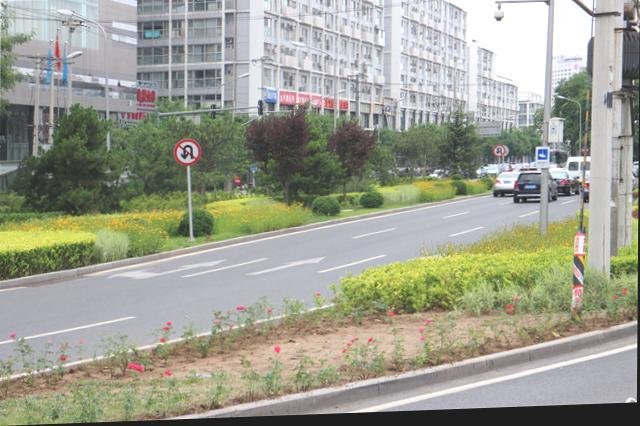not_u_turn_left: (174, 140, 202, 169), (492, 147, 506, 162)
